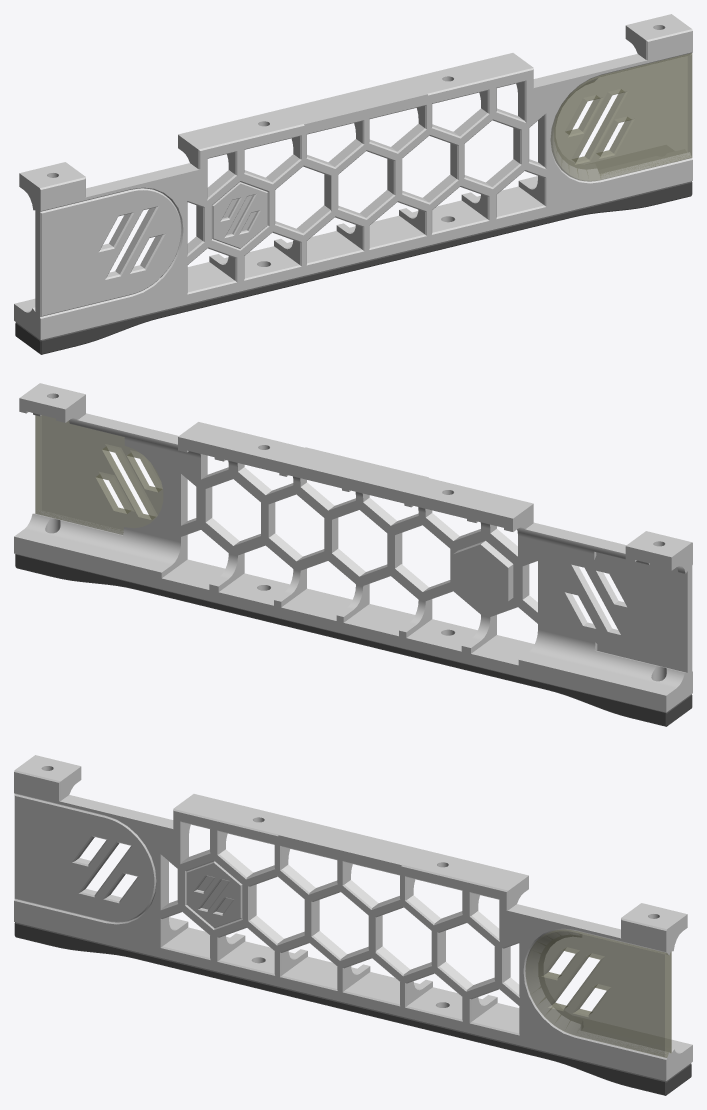
Rendered from micron.gltf.
The picture shows the model from 3 angles, top to bottom: view 1: azimuth 30°, elevation 25°; view 2: azimuth 150°, elevation 25°; view 3: azimuth 330°, elevation 25°; orthographic projection.
Visible parts, largest first — view 1: Body5, Body1, Body2, Body4, Body3; view 2: Body5, Body1, Body2, Body4, Body3; view 3: Body5, Body2, Body1, Body4, Body3.
Boxes of the visible parts, x1=… form: Body5: x1=14, y1=14, x2=692, y2=339; Body1: x1=35, y1=188, x2=181, y2=316; Body2: x1=550, y1=53, x2=692, y2=181; Body4: x1=15, y1=181, x2=692, y2=354; Body3: x1=212, y1=182, x2=267, y2=248; Body5: x1=14, y1=383, x2=692, y2=712; Body1: x1=555, y1=552, x2=692, y2=672; Body2: x1=35, y1=415, x2=163, y2=534; Body4: x1=15, y1=554, x2=692, y2=726; Body3: x1=453, y1=540, x2=513, y2=611; Body5: x1=14, y1=755, x2=692, y2=1080; Body2: x1=525, y1=929, x2=671, y2=1057; Body1: x1=14, y1=794, x2=156, y2=922; Body4: x1=14, y1=922, x2=691, y2=1095; Body3: x1=186, y1=861, x2=242, y2=928.
Size of the model in its own units: 0.2119 by 0.0518 by 0.015.
